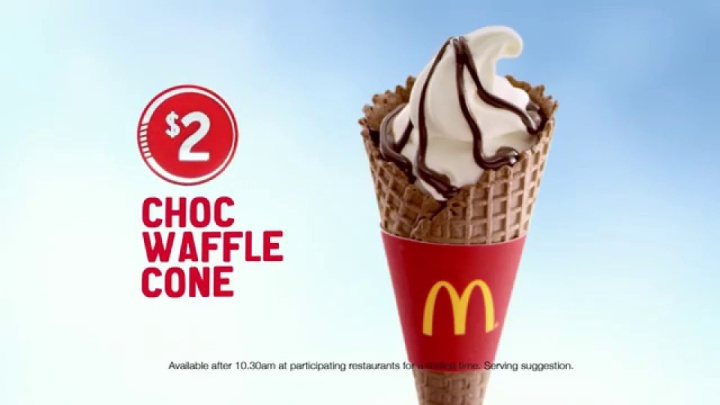mcdonalds: (409, 275, 504, 340)
